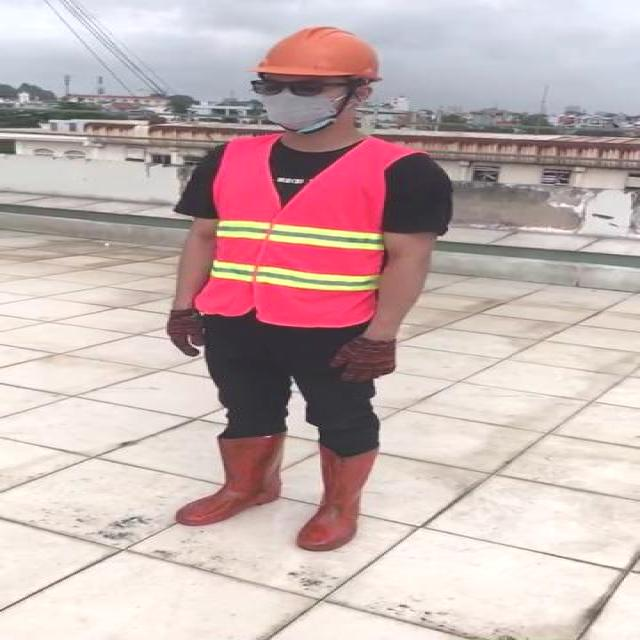boots: (174, 430, 286, 526), (297, 445, 384, 551)
face_mask: (252, 72, 342, 130)
glasses: (247, 75, 341, 100)
hand_glove: (329, 337, 396, 384), (167, 306, 203, 358)
head_helmet: (252, 23, 399, 84)
person: (152, 21, 467, 554)
vest: (197, 134, 384, 327)
